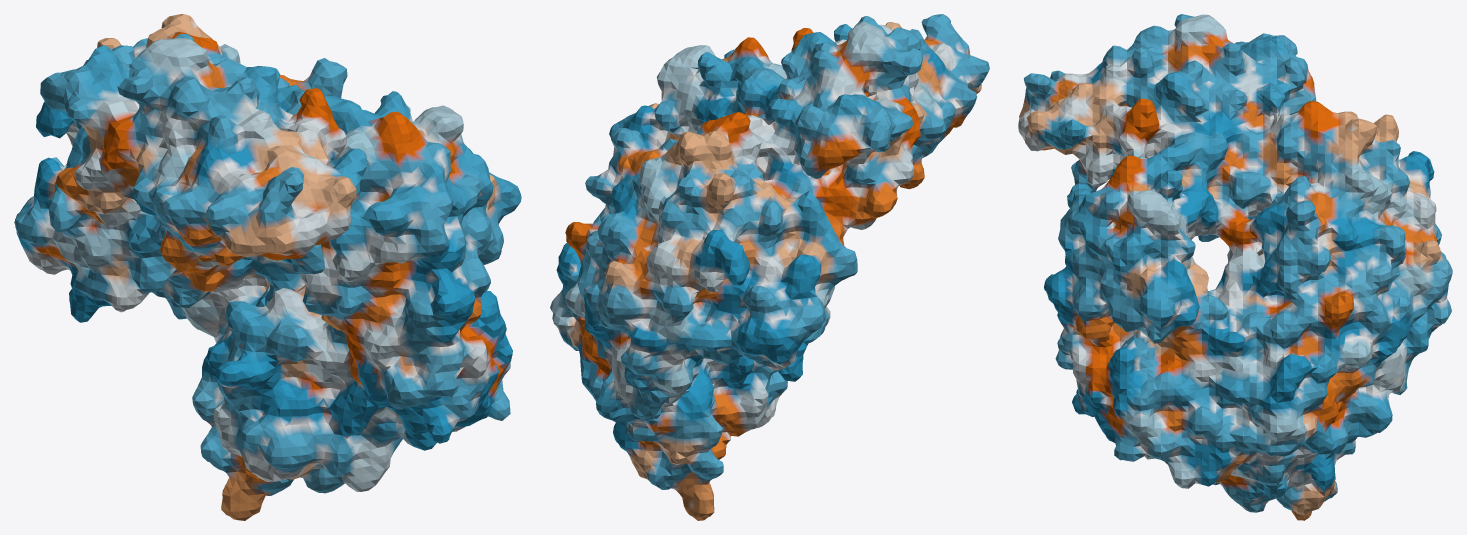
File: PDB-1PJR-surf-hydropathy.fbx
3 views of the same model, side by side, from view 1: azimuth 30°, elevation 25°; view 2: azimuth 150°, elevation 25°; view 3: azimuth 270°, elevation 25° (orthographic). The views are drawn at different scales.
Parts seen in each view (by area): view 1: Shape_IndexedFaceSet; view 2: Shape_IndexedFaceSet; view 3: Shape_IndexedFaceSet.
Boxes of the visible parts, x1,y1,x2,y2 form: Shape_IndexedFaceSet: (14, 14, 521, 520); Shape_IndexedFaceSet: (550, 14, 989, 520); Shape_IndexedFaceSet: (1018, 14, 1452, 520).
Bounding box in the file's own units: 6586 × 8765 × 7659.
